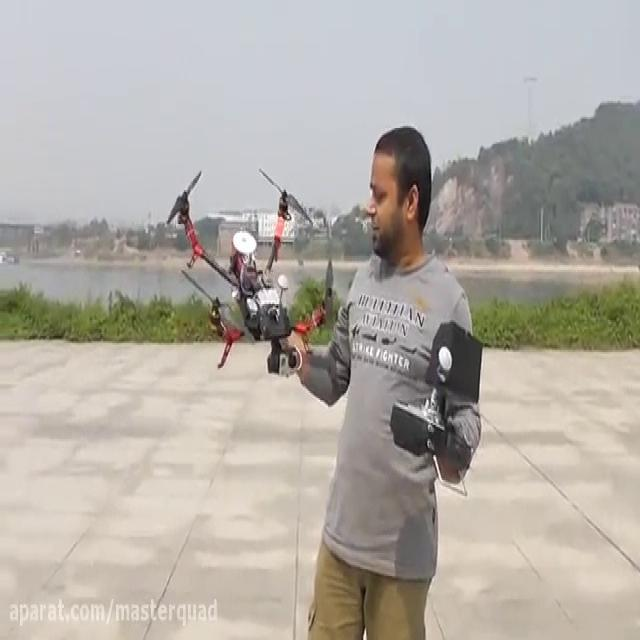drone: (161, 159, 337, 381)
